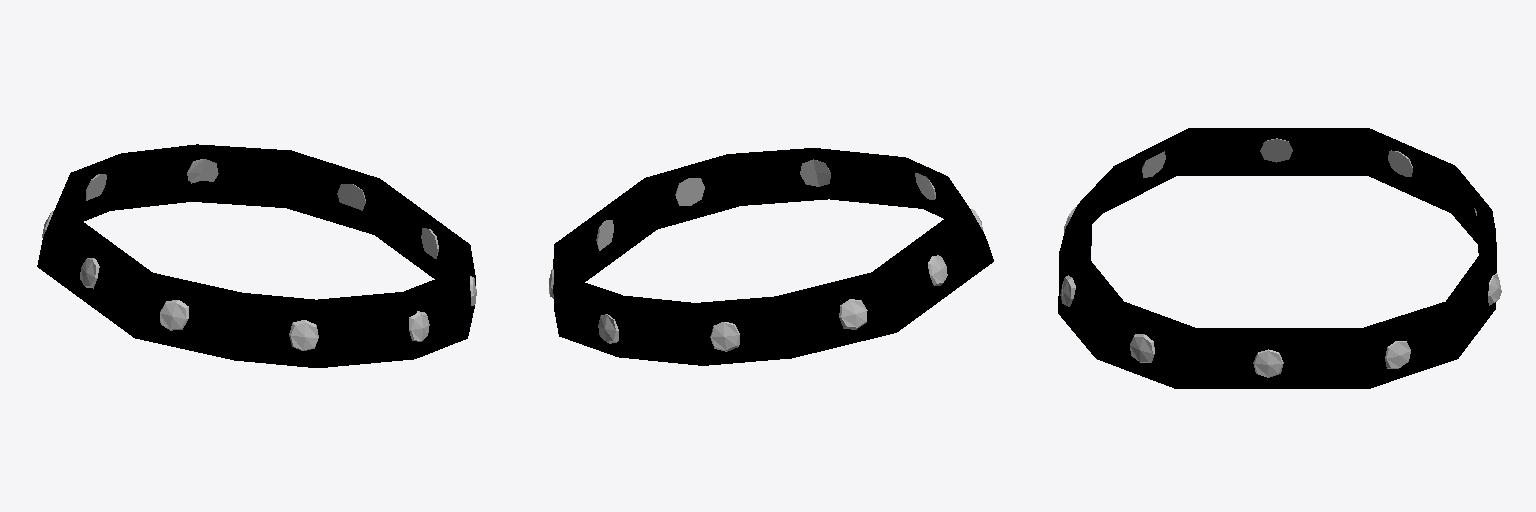
3 views of the same model, side by side, from view 1: azimuth 30°, elevation 25°; view 2: azimuth 150°, elevation 25°; view 3: azimuth 270°, elevation 25° (orthographic).
Parts seen in each view (by area): view 1: bracelet; view 2: bracelet; view 3: bracelet.
Part boxes in pixels (bbox=[...]): bracelet: bbox=[37, 144, 476, 367]; bracelet: bbox=[549, 148, 993, 365]; bracelet: bbox=[1058, 128, 1501, 388].
Bounding box in the file's own units: 0.6961 × 0.1963 × 0.7687.
1 materials, 1 textured.